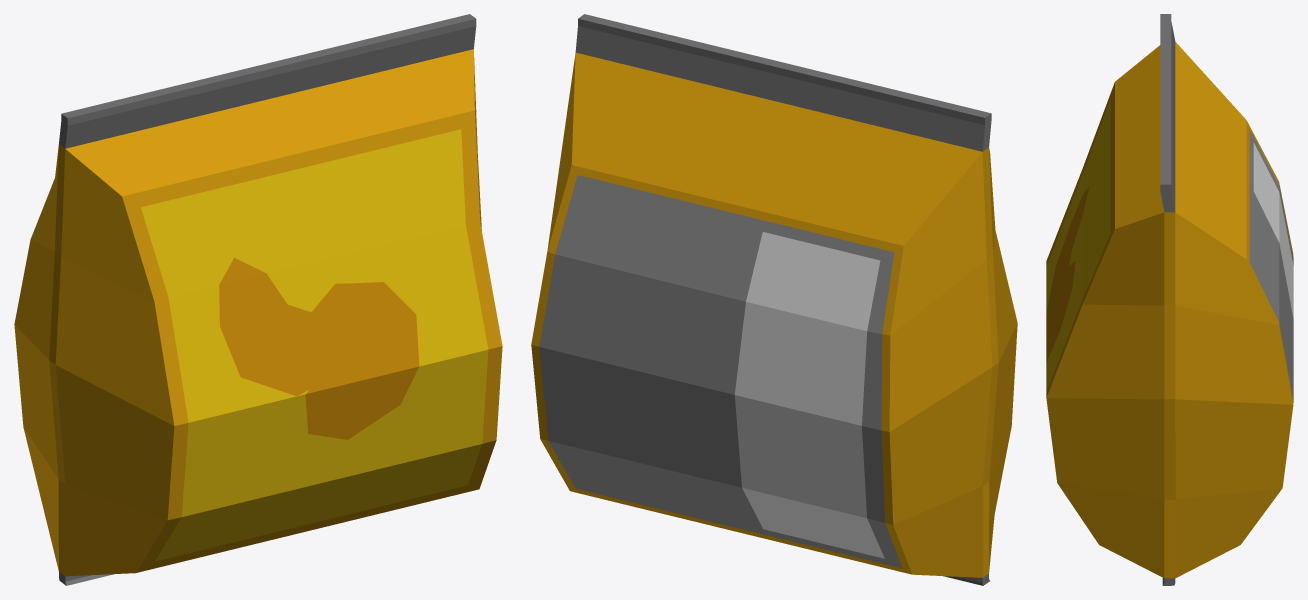
The model's file is Salt & Vinegar Potato Chips Small.fbx.
The picture shows the model from 3 angles, left to right: view 1: azimuth 30°, elevation 25°; view 2: azimuth 150°, elevation 25°; view 3: azimuth 270°, elevation 25°; orthographic projection. The views are drawn at different scales.
Visible parts, largest first — view 1: Salt & Vinegar Potato Chips Small; view 2: Salt & Vinegar Potato Chips Small; view 3: Salt & Vinegar Potato Chips Small.
Part boxes in pixels (box(x1,y1,x2,y2)): Salt & Vinegar Potato Chips Small: box(14, 14, 502, 585); Salt & Vinegar Potato Chips Small: box(531, 14, 1017, 585); Salt & Vinegar Potato Chips Small: box(1046, 14, 1293, 585).
Size of the model in its own units: 33.69 by 35.26 by 19.69.
Materials: 1 (1 with a texture image).
